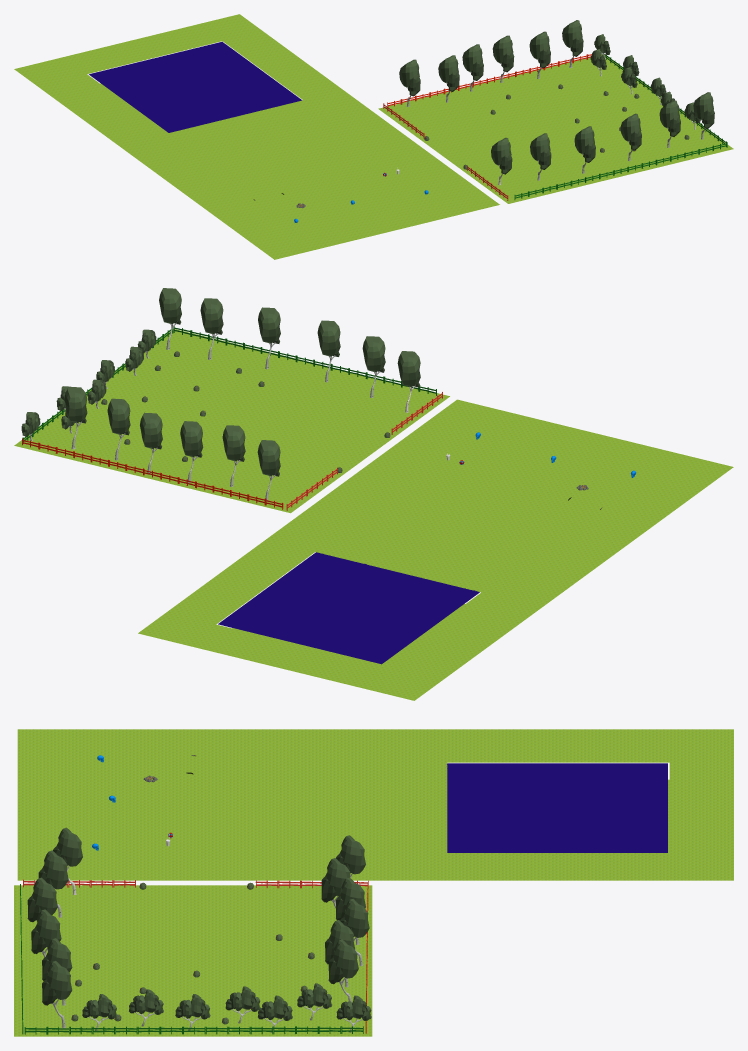
3 renders of one model, top to bottom at view 1: azimuth 30°, elevation 25°; view 2: azimuth 150°, elevation 25°; view 3: azimuth 270°, elevation 25°, orthographic. The views are drawn at different scales.
Parts seen in each view (by area): view 1: ground, forest, lakeGround, lake, Fence.001, Fence, BirchTree_2_Cube.009, BirchTree_2_Cube.000, BirchTree_2_Cube.007, BirchTree_2_Cube.003, BirchTree_2_Cube.011, BirchTree_2_Cube.001 (+6 smaller); view 2: ground, forest, lakeGround, lake, Fence, Fence.001, BirchTree_2_Cube.006, BirchTree_2_Cube.005, BirchTree_2_Cube.009, BirchTree_2_Cube.001, BirchTree_2_Cube.008, BirchTree_2_Cube.011 (+6 smaller); view 3: ground, forest, lakeGround, lake, Fence.002, BirchTree_2_Cube.003, BirchTree_2_Cube.009, BirchTree_2_Cube.007, BirchTree_2_Cube.005, BirchTree_2_Cube.011, BirchTree_2_Cube.001, BirchTree_2_Cube.012 (+12 smaller).
Part boxes in pixels (x1,y1,x2,y2): ground: [144, 109, 499, 259]; forest: [378, 54, 733, 203]; lakeGround: [14, 14, 369, 164]; lake: [89, 41, 302, 132]; Fence.001: [514, 142, 727, 199]; Fence: [387, 54, 591, 106]; BirchTree_2_Cube.009: [562, 20, 583, 68]; BirchTree_2_Cube.000: [399, 59, 420, 106]; BirchTree_2_Cube.007: [620, 113, 641, 161]; BirchTree_2_Cube.003: [693, 92, 714, 139]; BirchTree_2_Cube.011: [438, 55, 459, 102]; BirchTree_2_Cube.001: [530, 133, 551, 180]; ground: [298, 399, 733, 583]; forest: [14, 329, 449, 513]; lakeGround: [138, 516, 573, 700]; lake: [218, 552, 479, 664]; Fence: [22, 438, 283, 509]; Fence.001: [173, 326, 436, 395]; BirchTree_2_Cube.006: [107, 398, 130, 460]; BirchTree_2_Cube.005: [317, 320, 340, 382]; BirchTree_2_Cube.009: [64, 387, 87, 449]; BirchTree_2_Cube.001: [362, 336, 385, 397]; BirchTree_2_Cube.008: [200, 298, 223, 359]; BirchTree_2_Cube.011: [222, 425, 245, 486]; ground: [17, 729, 375, 880]; forest: [14, 885, 372, 1036]; lakeGround: [375, 729, 733, 880]; lake: [447, 763, 667, 852]; Fence.002: [24, 1026, 363, 1034]; BirchTree_2_Cube.003: [42, 961, 72, 1028]; BirchTree_2_Cube.009: [328, 939, 358, 1001]; BirchTree_2_Cube.007: [31, 909, 61, 957]; BirchTree_2_Cube.005: [27, 877, 57, 922]; BirchTree_2_Cube.011: [321, 858, 350, 908]; BirchTree_2_Cube.001: [38, 850, 68, 917]; BirchTree_2_Cube.012: [53, 827, 82, 894].
Size of the model in its own units: 203 by 26.23 by 201.
Materials: 166 (4 with a texture image).
